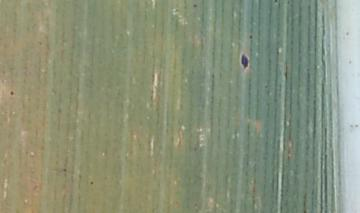tarspot: (239, 52, 250, 70), (283, 61, 290, 81), (347, 58, 354, 66), (88, 179, 95, 186), (191, 3, 198, 10), (247, 33, 254, 40), (8, 89, 15, 95), (344, 30, 350, 37), (62, 166, 68, 172), (273, 1, 278, 4)
